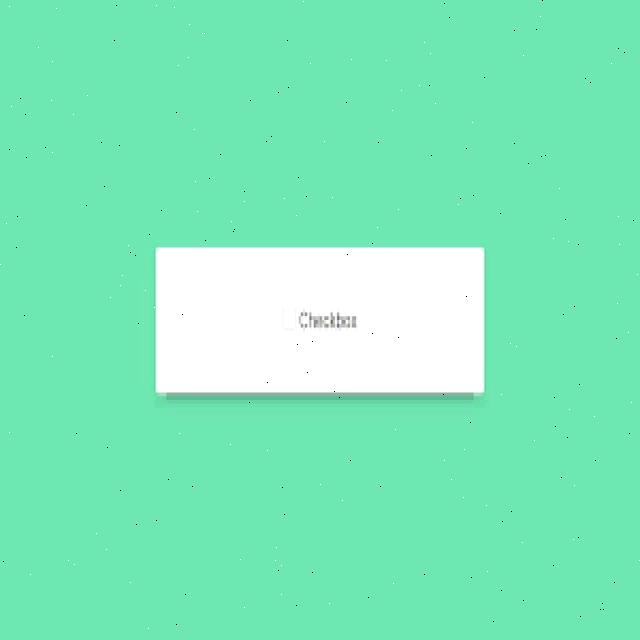checkbox: (282, 306, 296, 330)
label: (298, 300, 362, 338)
